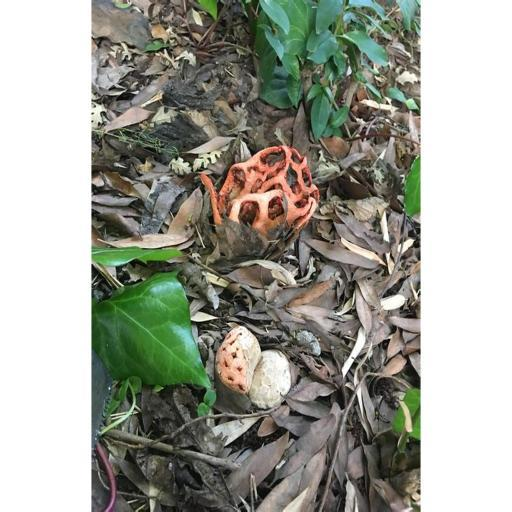mushroom: (197, 137, 329, 257)
